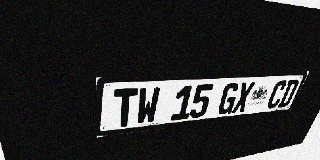1: (171, 85, 196, 121)
5: (189, 84, 214, 118)
C: (265, 80, 288, 109)
D: (277, 79, 300, 108)
G: (216, 83, 241, 115)
T: (113, 88, 138, 128)
W: (135, 87, 161, 125)
X: (231, 82, 255, 113)
